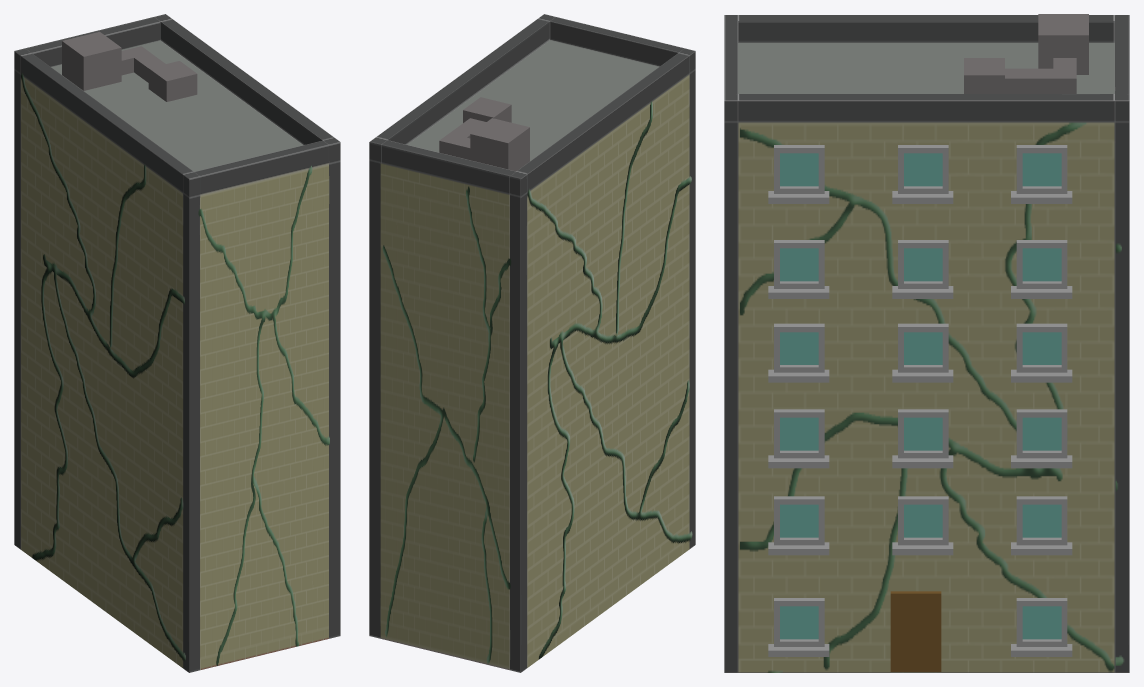
Rendered from tallapartmentyellow.fbx.
3 views of the same model, side by side, from view 1: azimuth 30°, elevation 25°; view 2: azimuth 150°, elevation 25°; view 3: azimuth 270°, elevation 25° (orthographic). The views are drawn at different scales.
Parts seen in each view (by area): view 1: polySurface194; view 2: polySurface194; view 3: polySurface194.
Part boxes in pixels (x1=…): polySurface194: x1=14, y1=14, x2=340, y2=672; polySurface194: x1=369, y1=14, x2=695, y2=672; polySurface194: x1=724, y1=14, x2=1129, y2=672.
Bounding box in the file's own units: 4.31 × 12.86 × 8.
